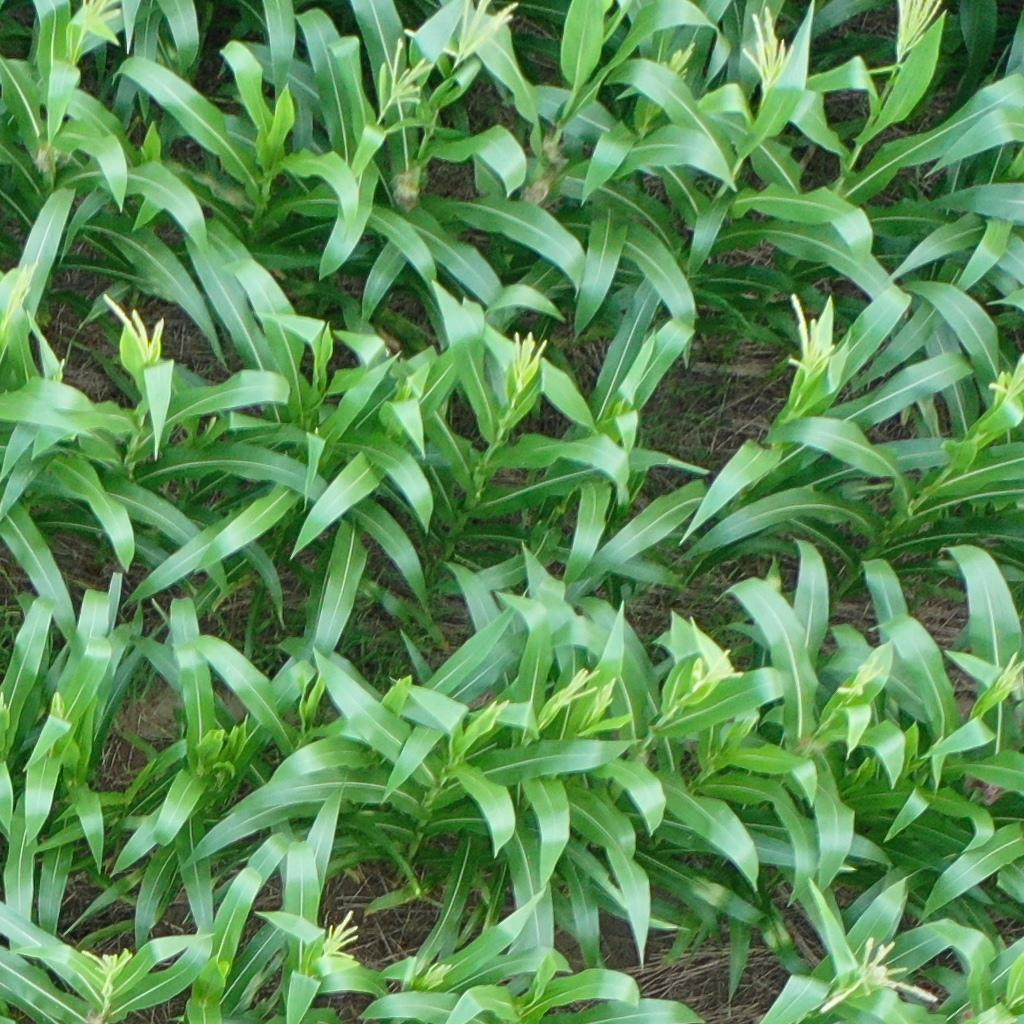Tassel: (815, 931, 944, 1013), (401, 1, 521, 69), (736, 5, 790, 98), (679, 616, 741, 695), (782, 291, 834, 381), (107, 292, 166, 369), (380, 38, 433, 113), (1, 259, 39, 340), (892, 1, 939, 61), (310, 904, 359, 961), (82, 940, 124, 1004), (506, 329, 545, 397), (834, 653, 884, 702), (553, 661, 598, 715), (656, 38, 703, 88), (68, 1, 119, 46), (991, 359, 1024, 417), (411, 956, 453, 990), (998, 643, 1024, 692), (595, 674, 617, 723)
